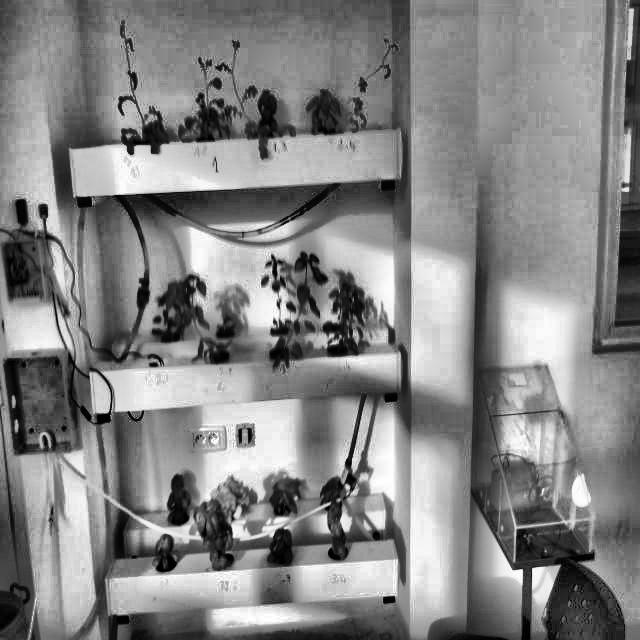plants: (112, 18, 168, 150), (224, 44, 298, 139), (269, 246, 326, 362), (168, 271, 234, 362), (342, 40, 399, 135), (182, 55, 232, 141), (324, 284, 368, 356), (194, 499, 234, 571), (261, 254, 292, 338), (153, 295, 187, 347), (328, 482, 350, 562), (166, 467, 190, 530), (271, 474, 304, 518), (150, 532, 183, 574), (262, 526, 297, 564)
